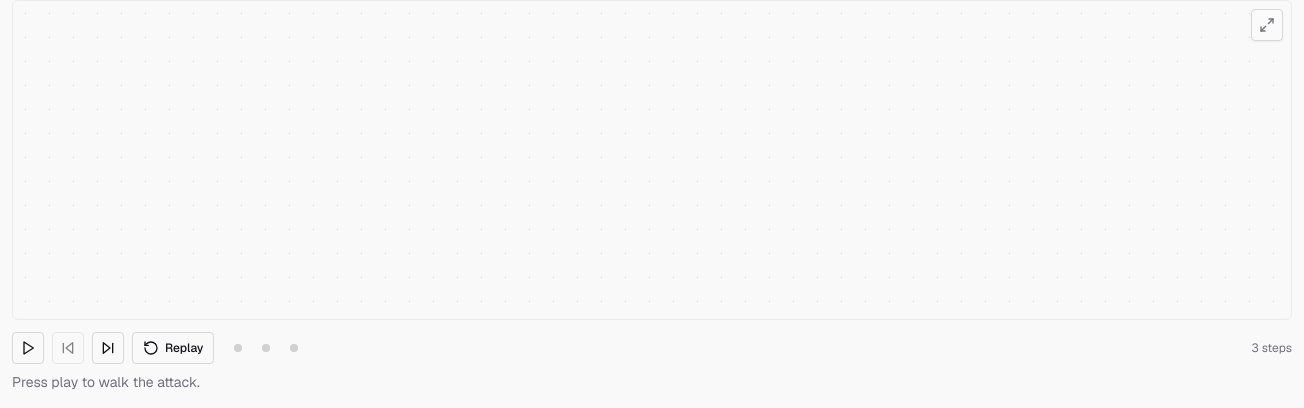
AttackPathPlayer › steps forward and back, updating the live caption
Click the button named "next step": (108, 348) [92,332,124,364]
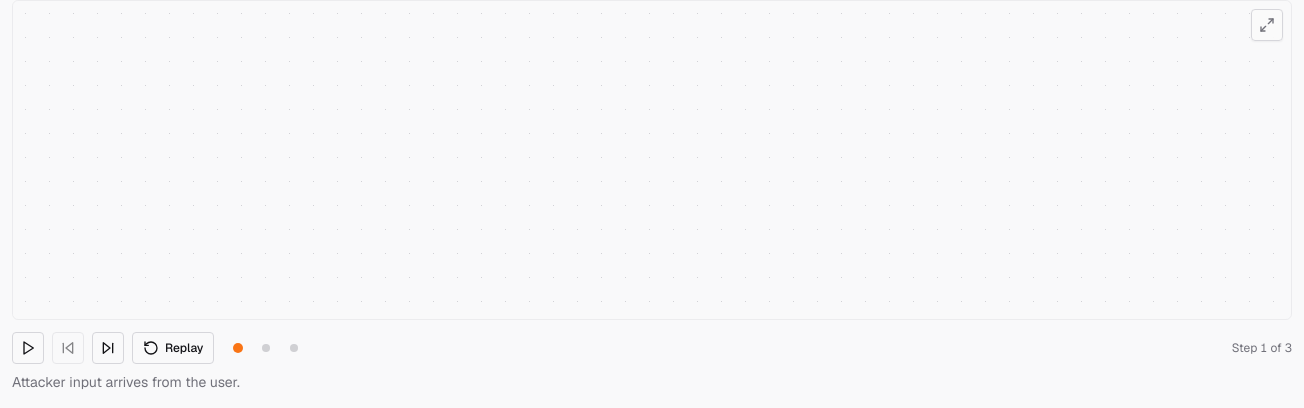
Check: the text "Attacker input arrives from the user." is shown, box [12,373,240,391]
Click the button named "next step": (108, 348) [92,332,124,364]
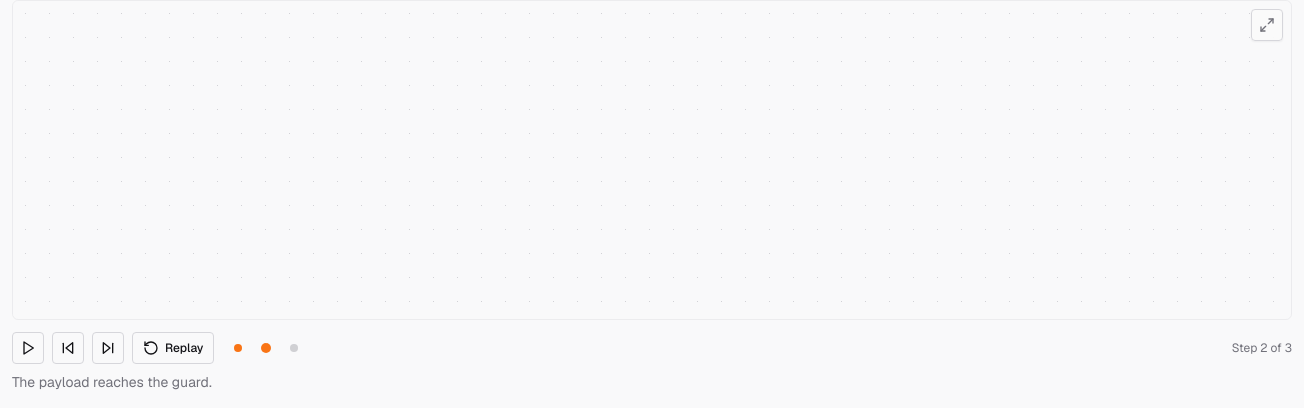
Check: the text "The payload reaches the guard." is shown, box [12,373,212,391]
Check: the text "Step 2 of 3" is shown, box [1232,340,1292,356]
Click the button named "previous step": (68, 348) [52,332,84,364]
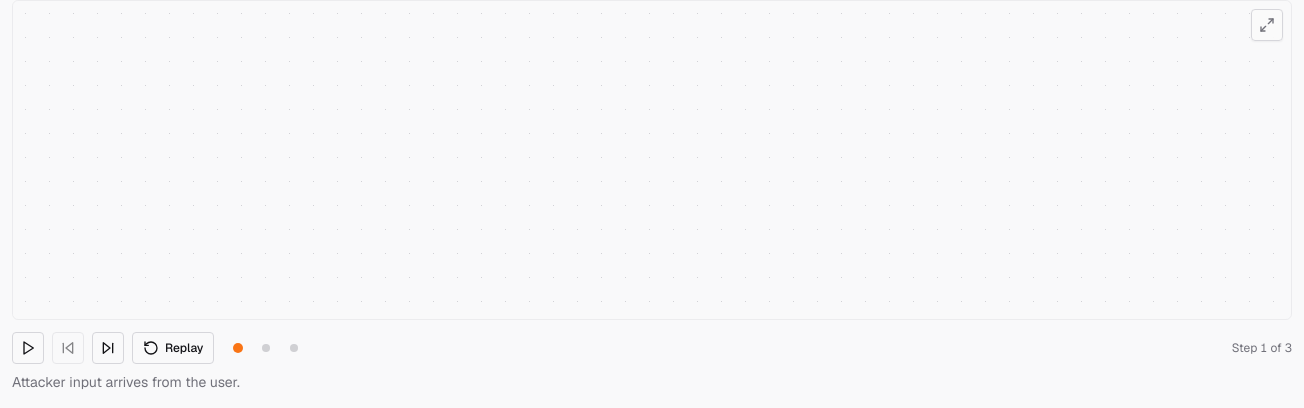
Check: the text "Attacker input arrives from the user." is shown, box [12,373,240,391]
Click the button named "step 3 of 3": (294, 348) [282,336,306,360]
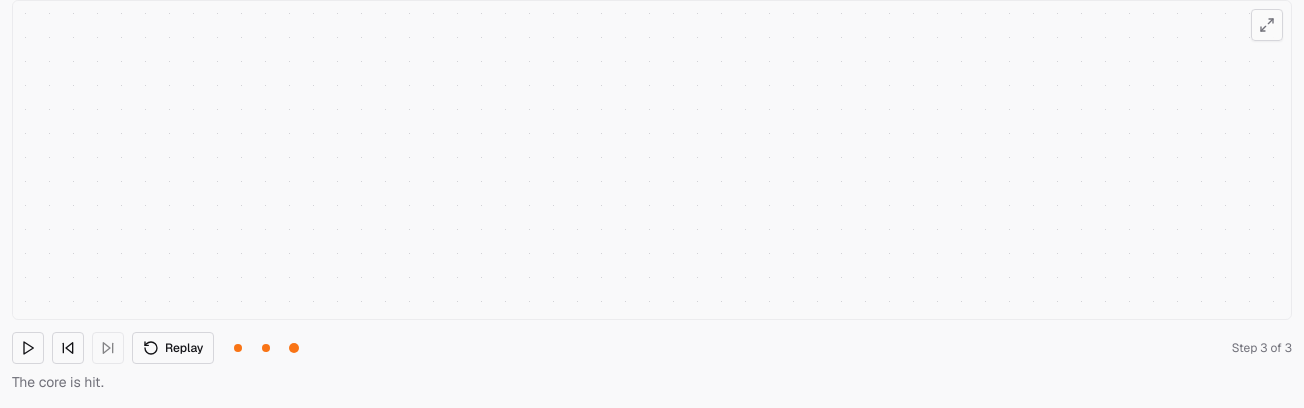
Check: the text "The core is hit." is shown, box [12,373,104,391]
